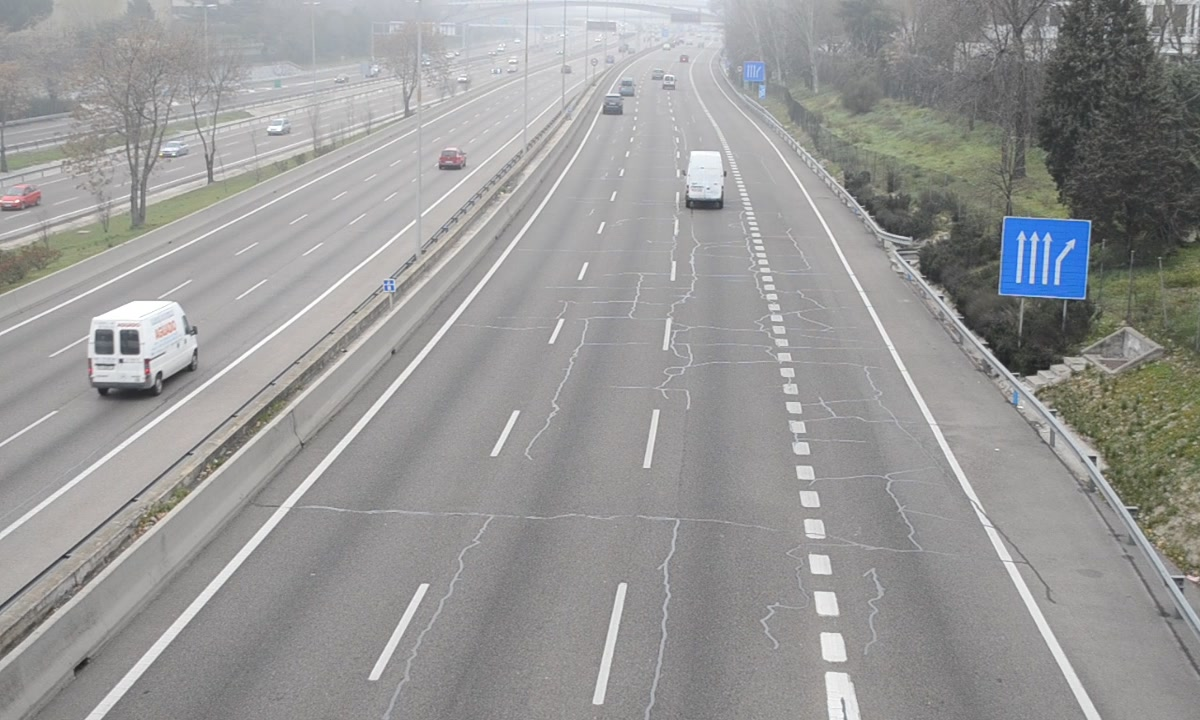van: (683, 150, 725, 209)
